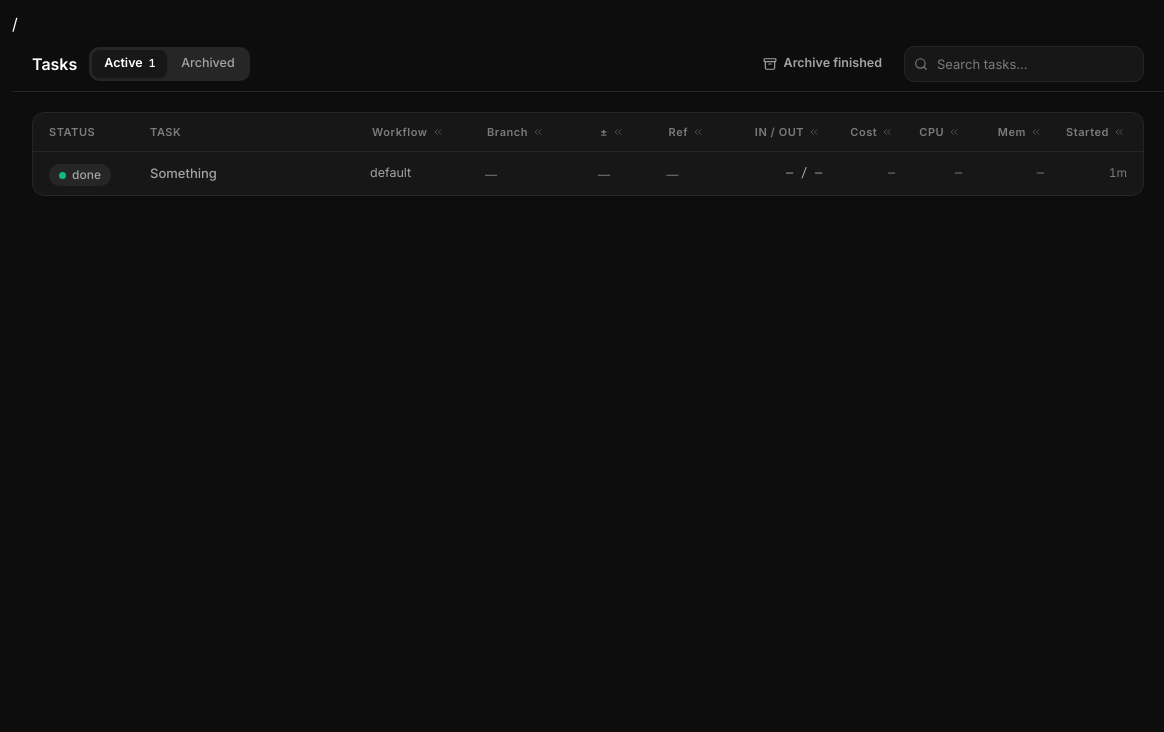
Test: TasksOverview — empty and loading states › says what the search missed, quoting it, with no backdrop
Type "quaternion" into the field labelled "Search tasks".
click(1024, 64); type("quaternion")  # box [904,46,1144,82]
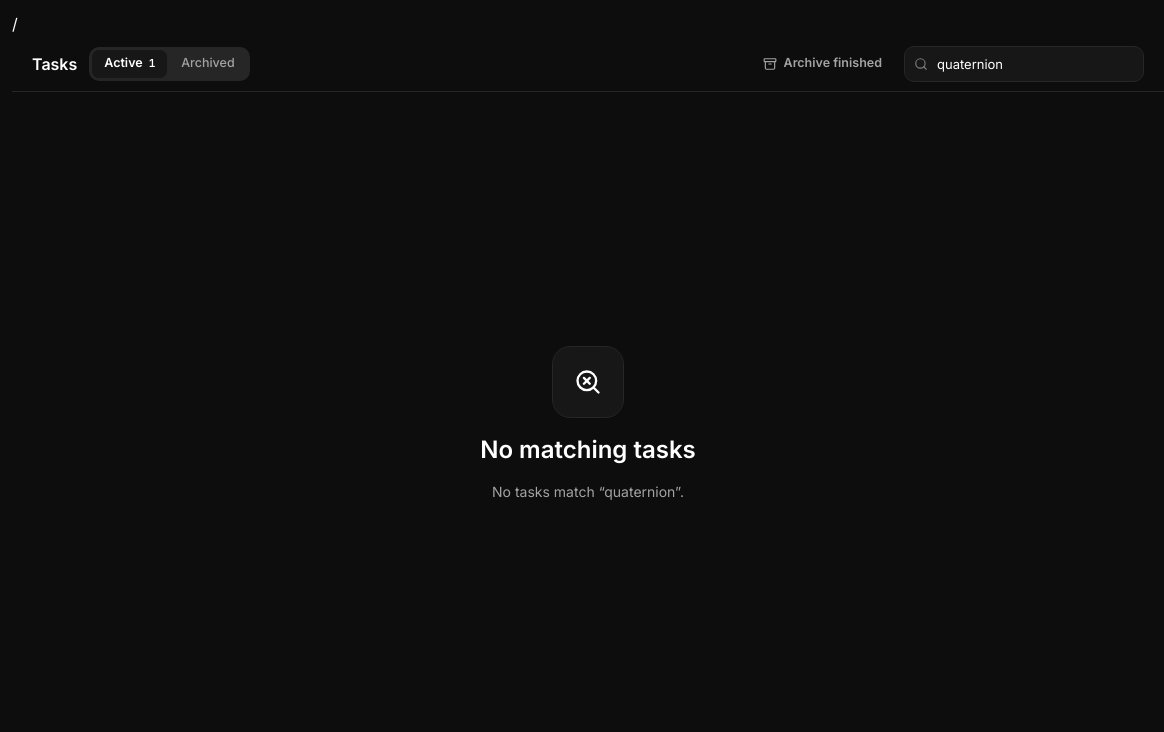
expect the text "No tasks match “quaternion”." is shown: met, box [492,482,684,502]
